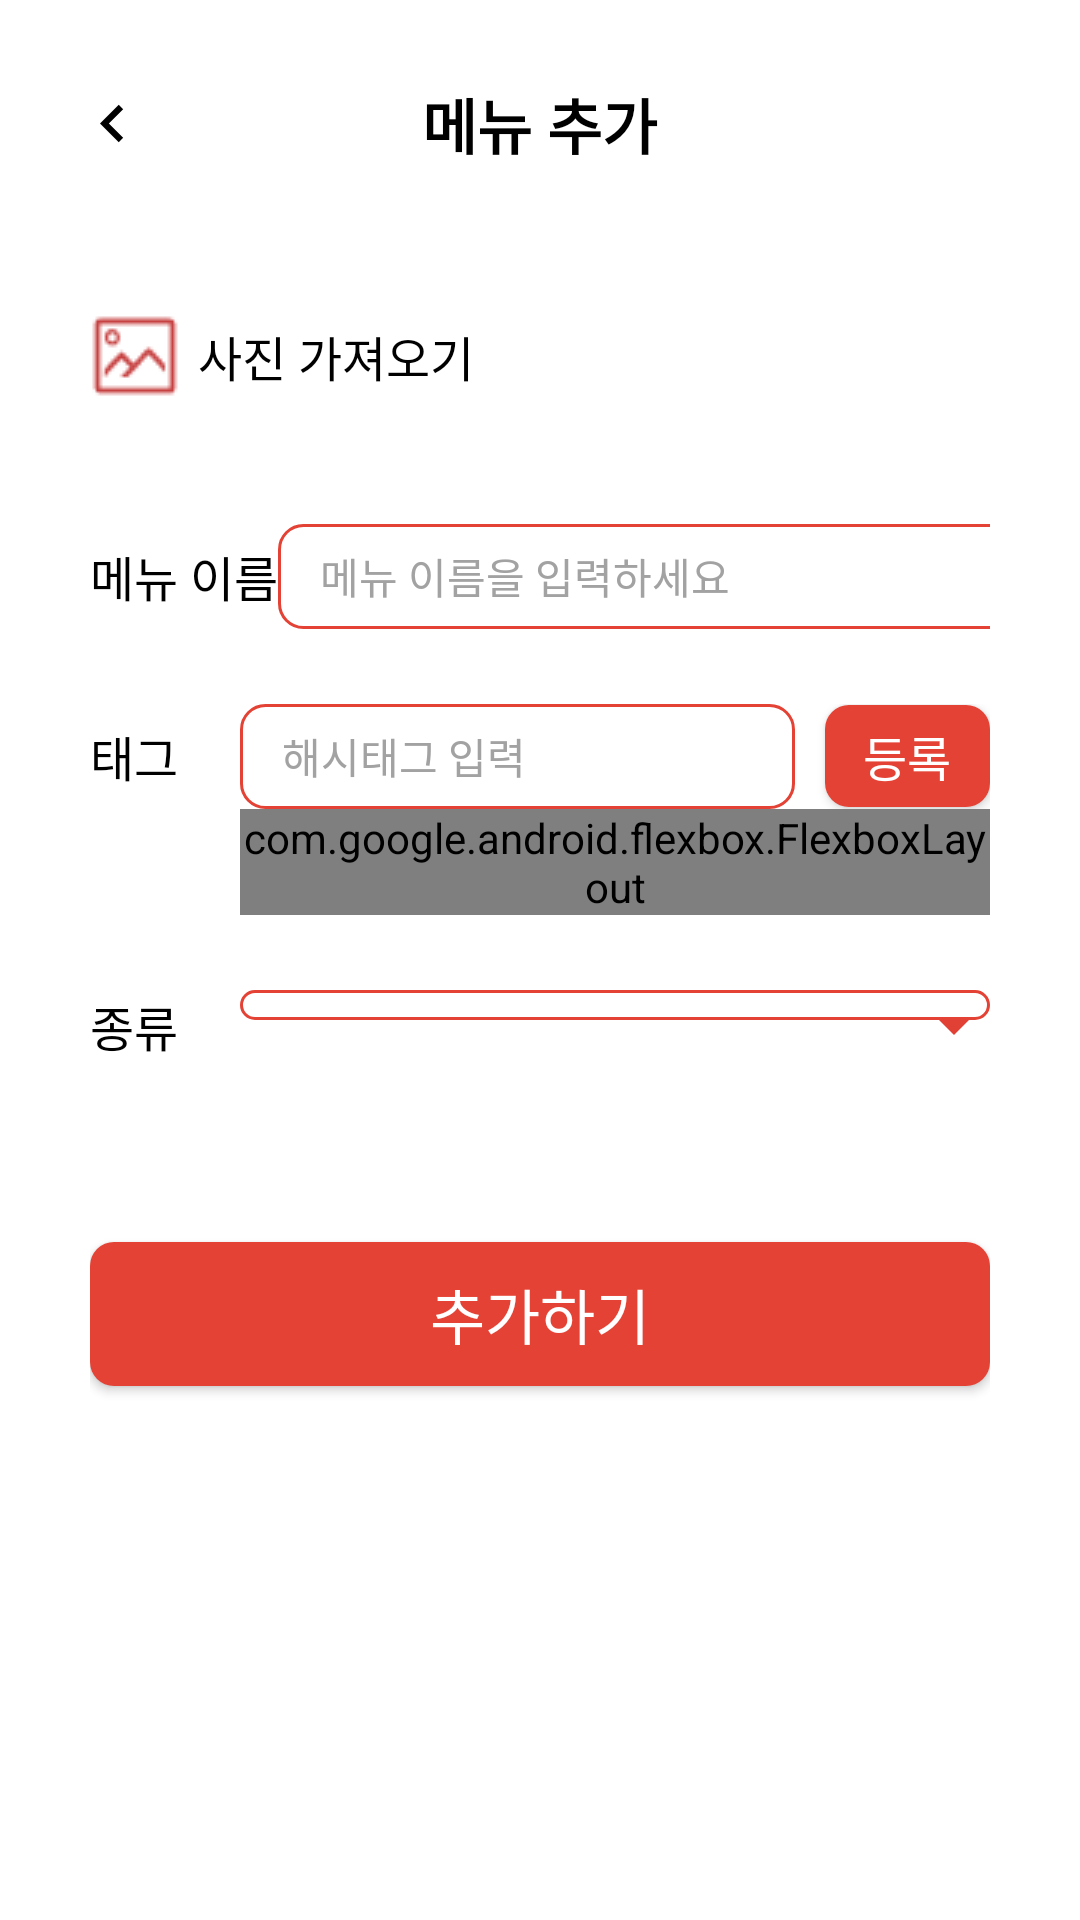

Point at icon controls on the screen. Image size 1080x1920, points as (x,y).
navigate before: (111,123)
